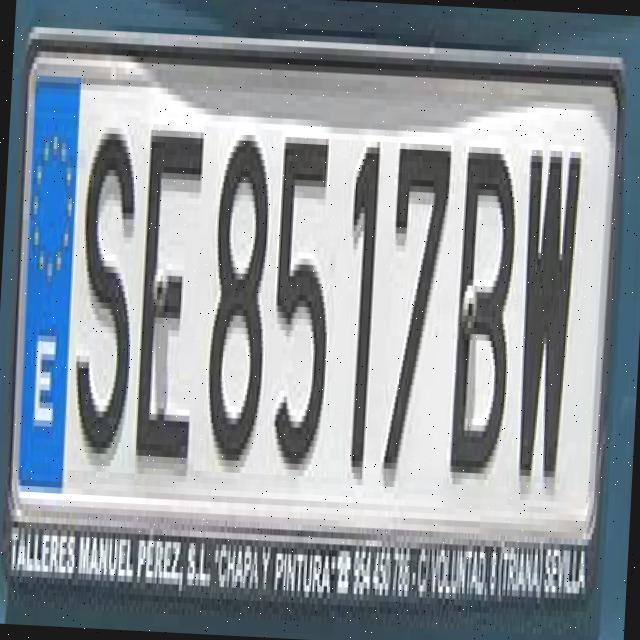EU: (18, 72, 616, 521)
Espagne: (16, 78, 84, 502)
